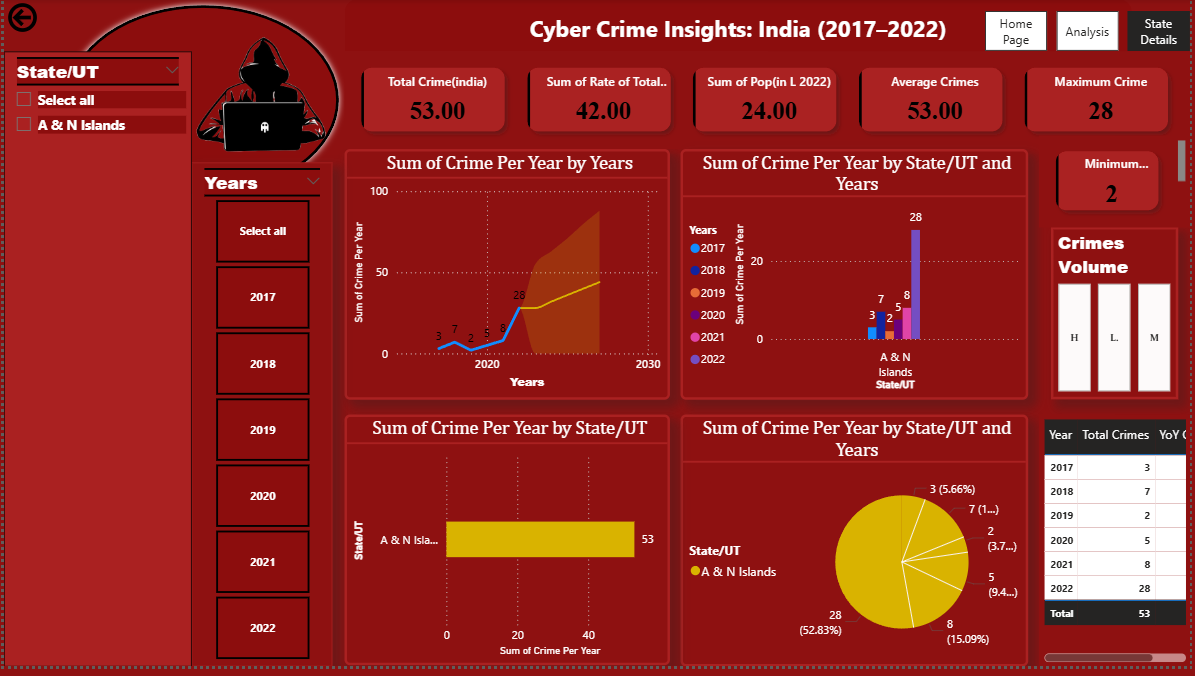

This screenshot's page, from the dashboard's own definition file:
{"tool":"powerbi","page":{"name":"State Details","canvas":[1280,720],"ordinal":2},"visuals":[{"type":"actionButton","box":[0,0,100,40],"z":0},{"type":"shape","box":[62.3,0,306.6,218.1],"z":1000},{"type":"lineChart","fields":{"Category":["2017 to 2022.Years"],"Y":["Sum(2017 to 2022.Crime Per Year)"]},"box":[367.6,161.9,351.4,270.4],"z":2000},{"type":"slicer","fields":{"Values":["2017 to 2022.Years"]},"box":[202.4,175.9,152.2,544.1],"z":3000},{"type":"slicer","fields":{"Values":["2017 to 2022.State/UT"]},"box":[0,56.7,202.4,663.9],"z":4000},{"type":"image","box":[162.3,0,231.2,206.6],"z":5000},{"type":"shape","box":[367.6,0,850.1,56.7],"z":6000},{"type":"cardVisual","fields":{"Data":["2017 to 2022.Total Crime(india)","Sum(2017 to 2022.Rate of Total Cyber Crimes (2022))","Sum(2017 to 2022.Mid-Year Projected Population (in Lakhs))","2017 to 2022.Average Crimes(Per y)","2017 to 2022.Maximum Crime"]},"box":[366.8,56.7,913.2,105.2],"z":7000},{"type":"clusteredColumnChart","fields":{"Y":["Sum(2017 to 2022.Crime Per Year)"],"Category":["2017 to 2022.State/UT"],"Series":["2017 to 2022.Years"]},"box":[730.3,161.9,375.7,270.4],"z":8000},{"type":"advancedSlicerVisual","fields":{"Values":["2017 to 2022 Crime volume.Crimes Volume"]},"box":[1130.2,246.1,137.6,186.2],"z":9000},{"type":"pieChart","fields":{"Y":["Sum(2017 to 2022.Crime Per Year)"],"Series":["2017 to 2022.Years"],"Category":["2017 to 2022.State/UT"]},"box":[730.3,448,375.7,272],"z":10000},{"type":"cardVisual","fields":{"Data":["2017 to 2022.Minimum Crime","DateTable.YoY Growth %"]},"box":[1116.5,147.3,163.5,98.8],"z":11000},{"type":"tableEx","fields":{"Values":["DateTable.Year","DateTable.Total Crimes","DateTable.YoY Change"]},"box":[1116.5,448,163.5,272],"z":12000},{"type":"barChart","fields":{"Y":["Sum(2017 to 2022.Crime Per Year)"],"Category":["2017 to 2022.State/UT"]},"box":[367.6,448.5,351.4,270.4],"z":13000},{"type":"pageNavigator","box":[1058.2,13,221.8,43.7],"z":14000}]}

Visuals, with their boxes in screenshot pixels (x1, y1, x2, y2), scaled from the page's 1280x720 canvas onto the 1195x676 screenshot:
actionButton: region(0, 0, 93, 38)
shape: region(58, 0, 344, 205)
lineChart - 2017 to 2022.Years x Sum(2017 to 2022.Crime Per Year): region(343, 152, 671, 406)
slicer - 2017 to 2022.Years: region(189, 165, 331, 675)
slicer - 2017 to 2022.State/UT: region(0, 53, 189, 675)
image: region(152, 0, 367, 194)
shape: region(343, 0, 1137, 53)
cardVisual - 2017 to 2022.Total Crime(india) x Sum(2017 to 2022.Rate of Total Cyber Crimes (2022)): region(342, 53, 1194, 152)
clusteredColumnChart - Sum(2017 to 2022.Crime Per Year) x 2017 to 2022.State/UT: region(682, 152, 1033, 406)
advancedSlicerVisual - 2017 to 2022 Crime volume.Crimes Volume: region(1055, 231, 1184, 406)
pieChart - Sum(2017 to 2022.Crime Per Year) x 2017 to 2022.Years: region(682, 421, 1033, 675)
cardVisual - 2017 to 2022.Minimum Crime x DateTable.YoY Growth %: region(1042, 138, 1194, 231)
tableEx - DateTable.Year x DateTable.Total Crimes: region(1042, 421, 1194, 675)
barChart - Sum(2017 to 2022.Crime Per Year) x 2017 to 2022.State/UT: region(343, 421, 671, 675)
pageNavigator: region(988, 12, 1194, 53)
